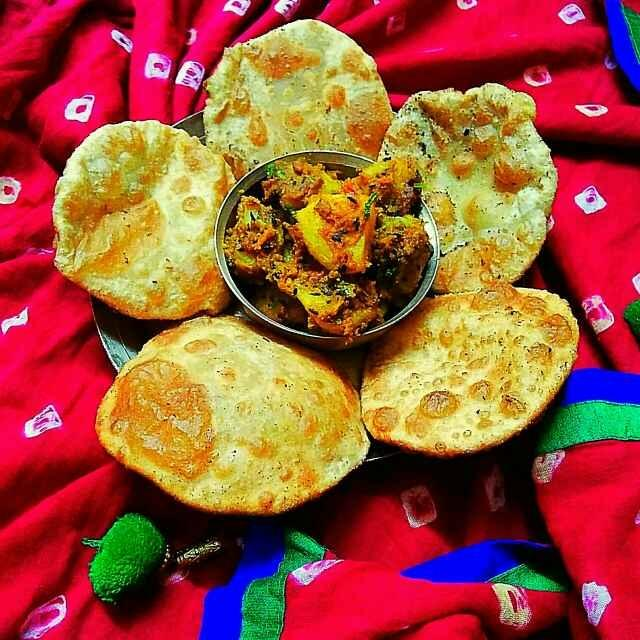CURRY: (222, 154, 433, 334)
POORI: (52, 13, 580, 517)
